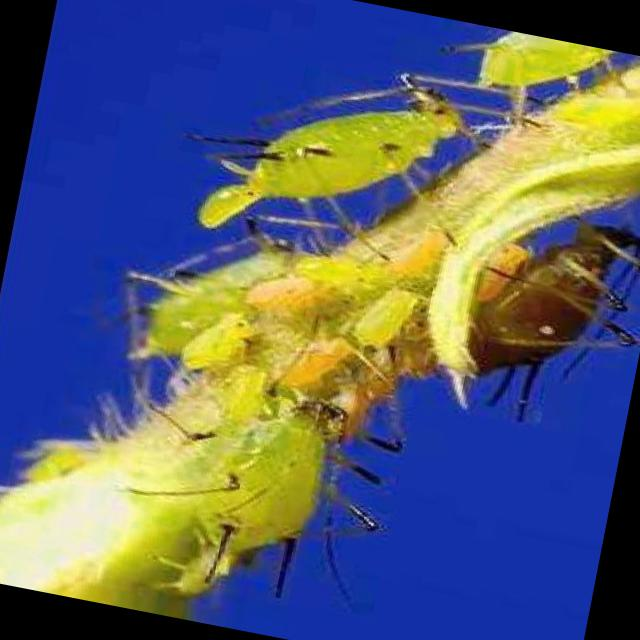aphid: (110, 234, 394, 578), (186, 40, 484, 282), (111, 362, 383, 621), (439, 192, 640, 425), (440, 20, 625, 124)
